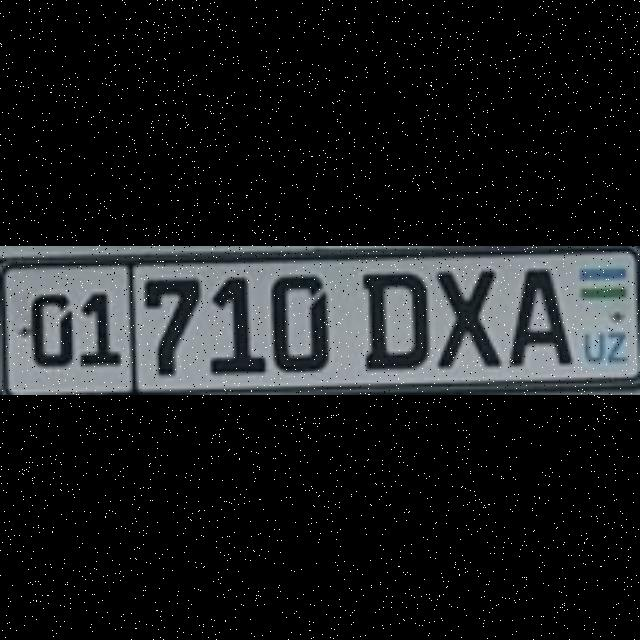0: (268, 271, 326, 369), (26, 291, 70, 363)
1: (208, 274, 262, 372), (75, 288, 118, 364)
7: (138, 274, 196, 374)
A: (504, 265, 568, 363)
D: (358, 268, 424, 366)
X: (433, 265, 499, 363)
